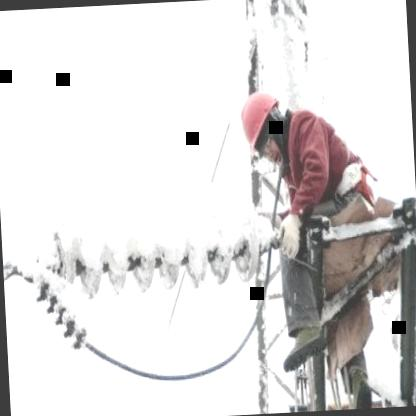helmet: (233, 83, 293, 172)
